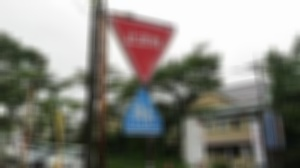Regulatory_sign_triangle: (113, 10, 181, 99)
